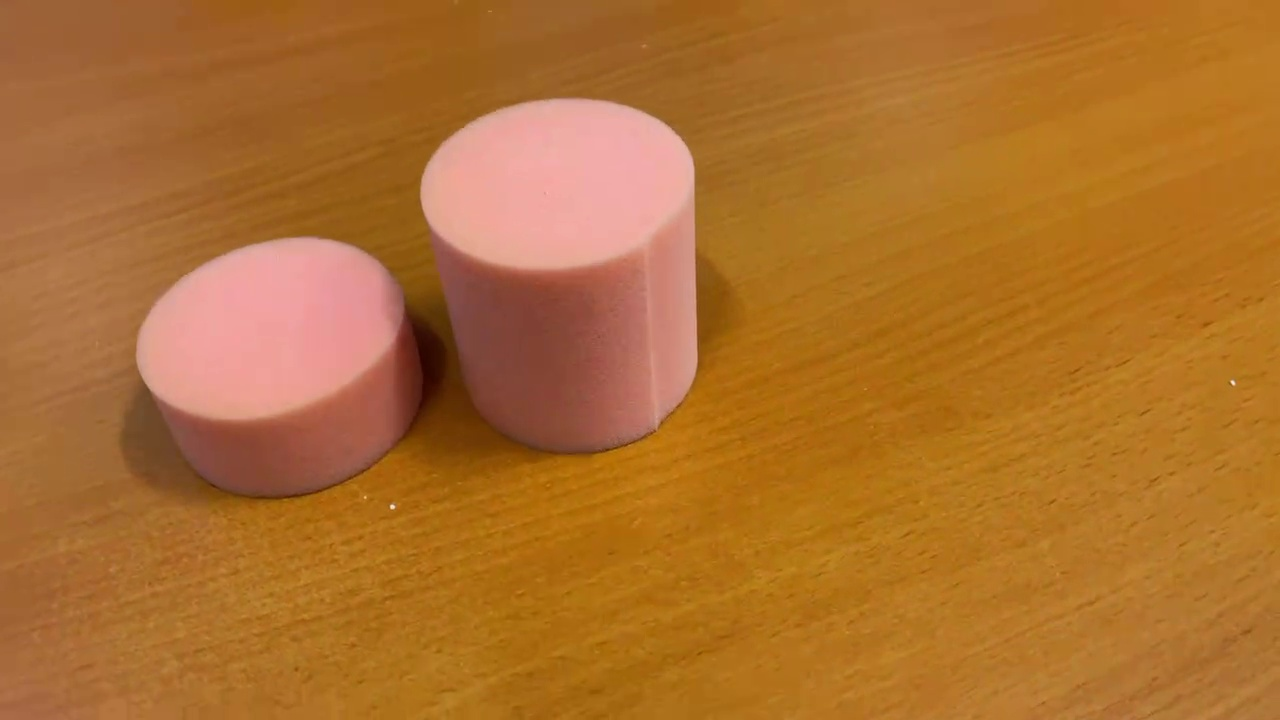Clyinder_short: (130, 229, 435, 503)
Cylinder: (415, 88, 703, 463)
